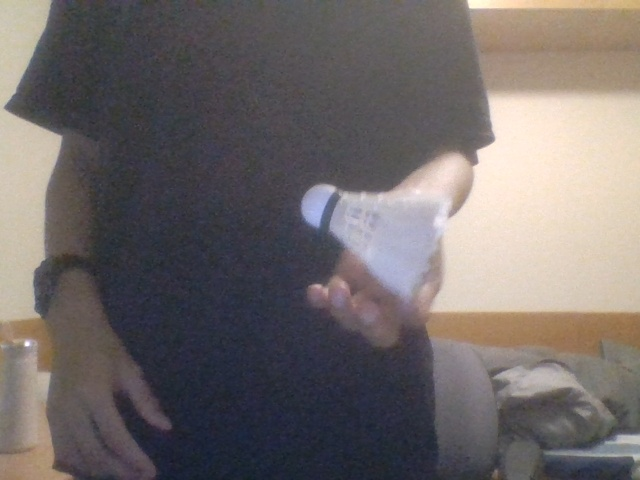human: (1, 1, 495, 480)
shuttle: (300, 182, 450, 301)
